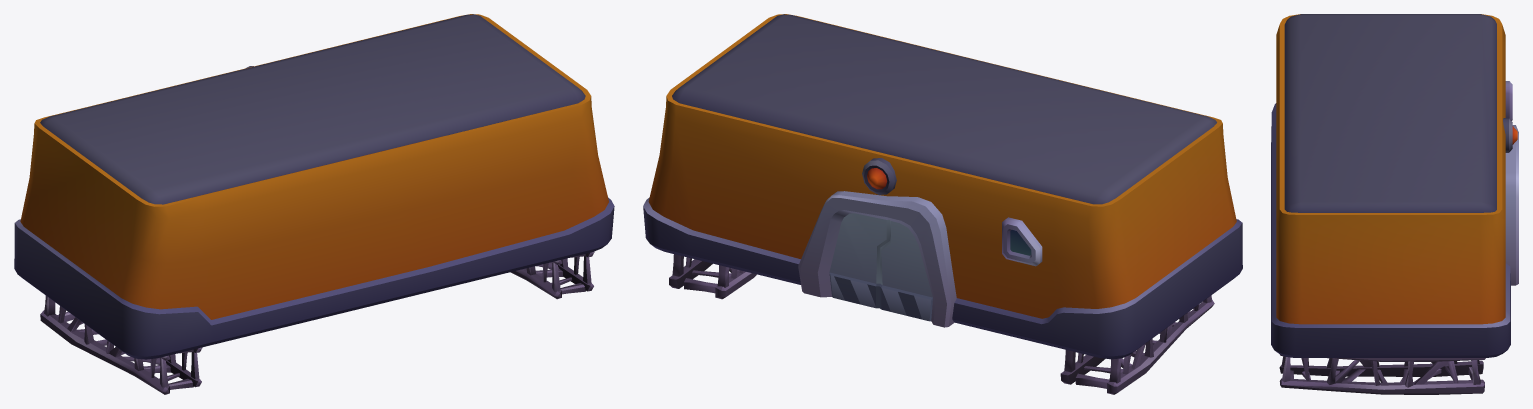
Rendered from SM_Platform_Tower_05.fbx.
The picture shows the model from 3 angles, left to right: view 1: azimuth 30°, elevation 25°; view 2: azimuth 150°, elevation 25°; view 3: azimuth 270°, elevation 25°; orthographic projection. The views are drawn at different scales.
Parts seen in each view (by area): view 1: SM_Platform_Tower_05; view 2: SM_Platform_Tower_05; view 3: SM_Platform_Tower_05.
Part boxes in pixels (<box>): SM_Platform_Tower_05: <box>14,14,614,394</box>; SM_Platform_Tower_05: <box>643,14,1242,394</box>; SM_Platform_Tower_05: <box>1271,14,1518,394</box>.
Size of the model in its own units: 15.2 by 6.09 by 7.3.
